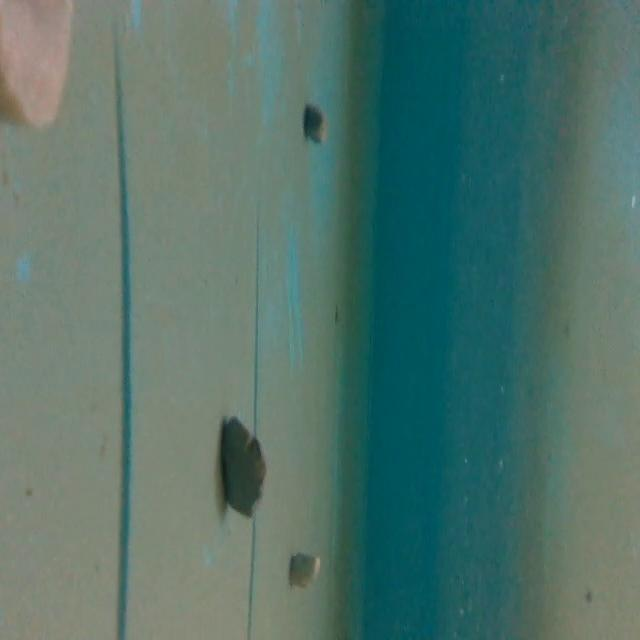rock: (215, 413, 269, 521), (287, 548, 323, 596), (301, 102, 332, 148)
